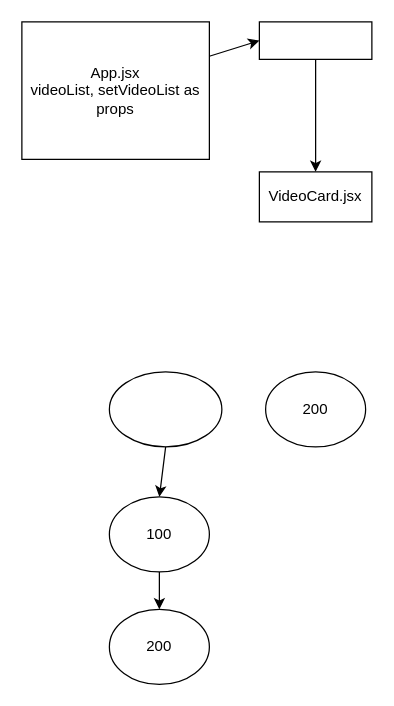
This 394x706 diagram has some shape labels left out. The shapes that lost their labels are listed below. From the top down, each one's box as (x1, y1, x2, y2) in pixels, then its label:
(258, 21, 372, 59): VideoList.jsx
(108, 371, 222, 447): Main
